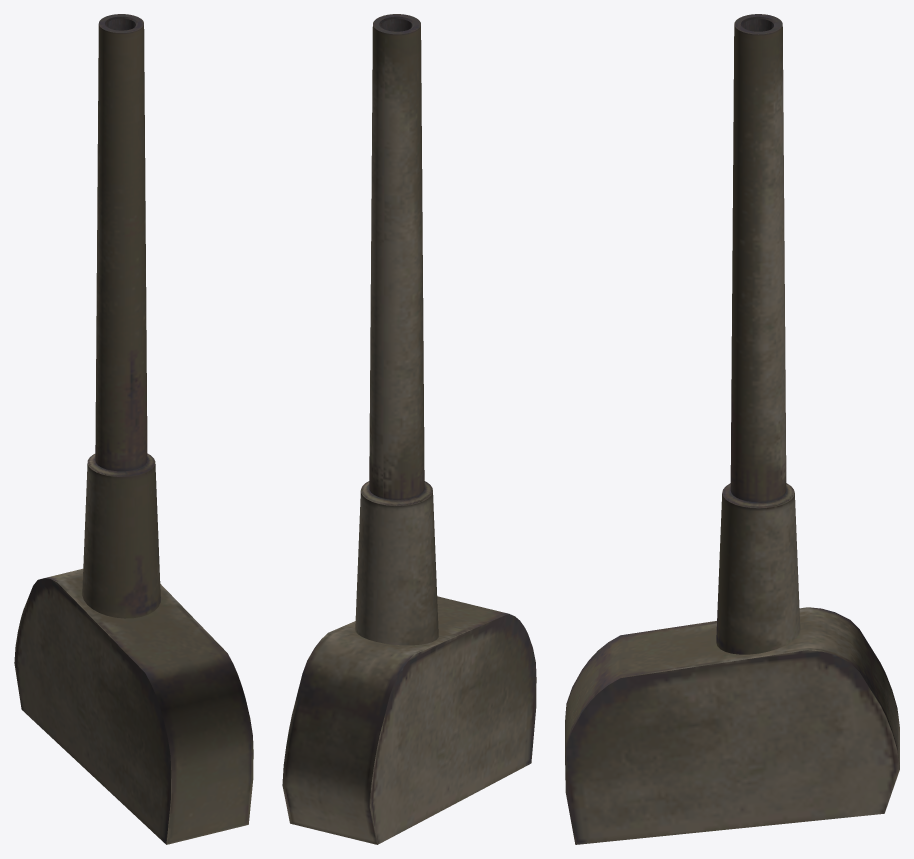
The model's file is Gun_02.glb.
The picture shows the model from 3 angles, left to right: view 1: azimuth 30°, elevation 25°; view 2: azimuth 150°, elevation 25°; view 3: azimuth 270°, elevation 25°; orthographic projection. The views are drawn at different scales.
Parts seen in each view (by area): view 1: set_0_group_0; view 2: set_0_group_0; view 3: set_0_group_0.
Part boxes in pixels (box(x1,y1,x2,y2)): set_0_group_0: box(14, 14, 253, 844); set_0_group_0: box(282, 14, 536, 844); set_0_group_0: box(565, 14, 899, 844).
Size of the model in its own units: 0.1165 by 1.01 by 0.384.
Materials: 1 (1 with a texture image).
